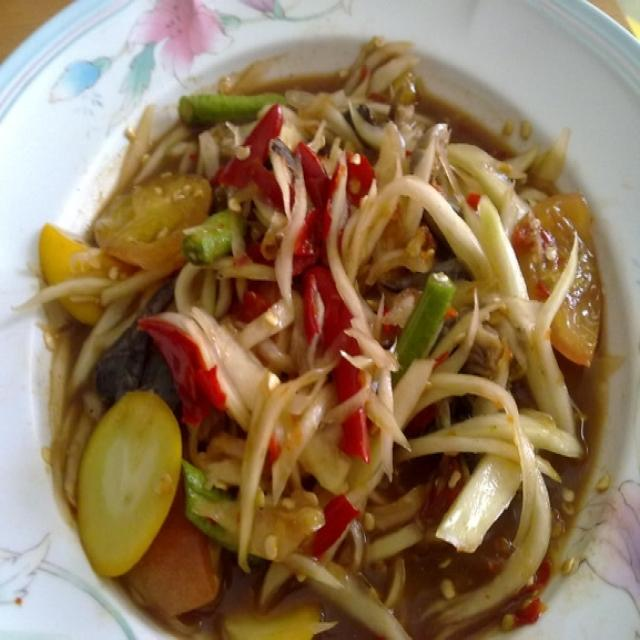蔬菜料理: (30, 48, 606, 604)
